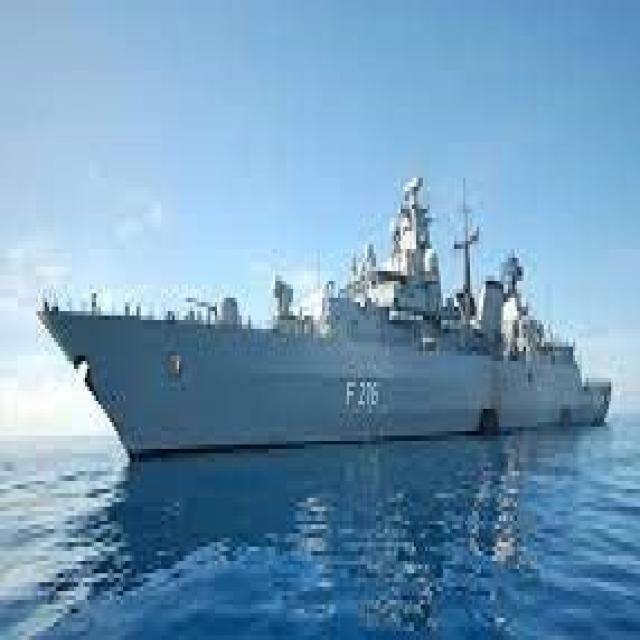navalvessels: (37, 136, 617, 454)
